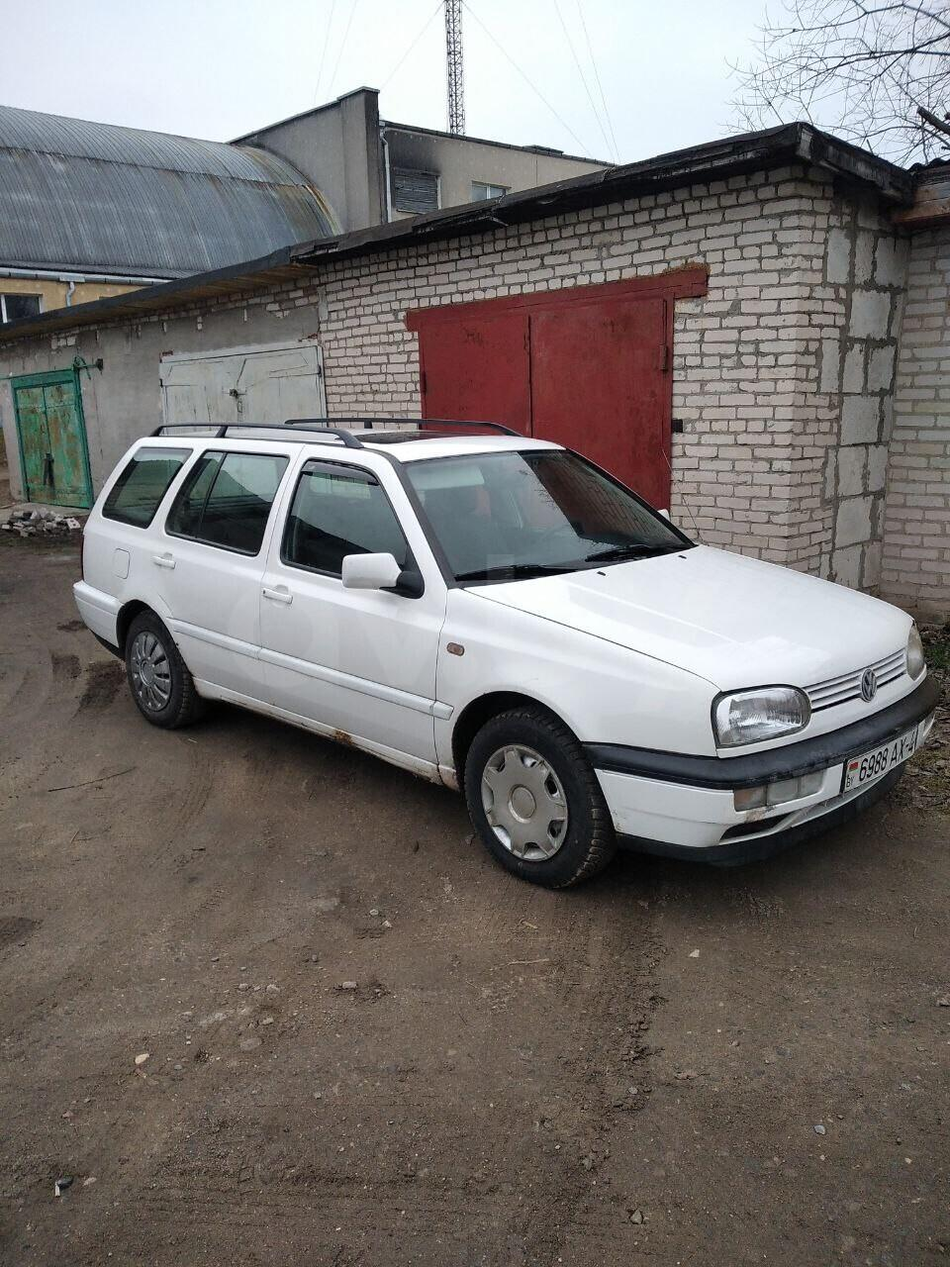Golf_1991-2000: (89, 431, 940, 881)
